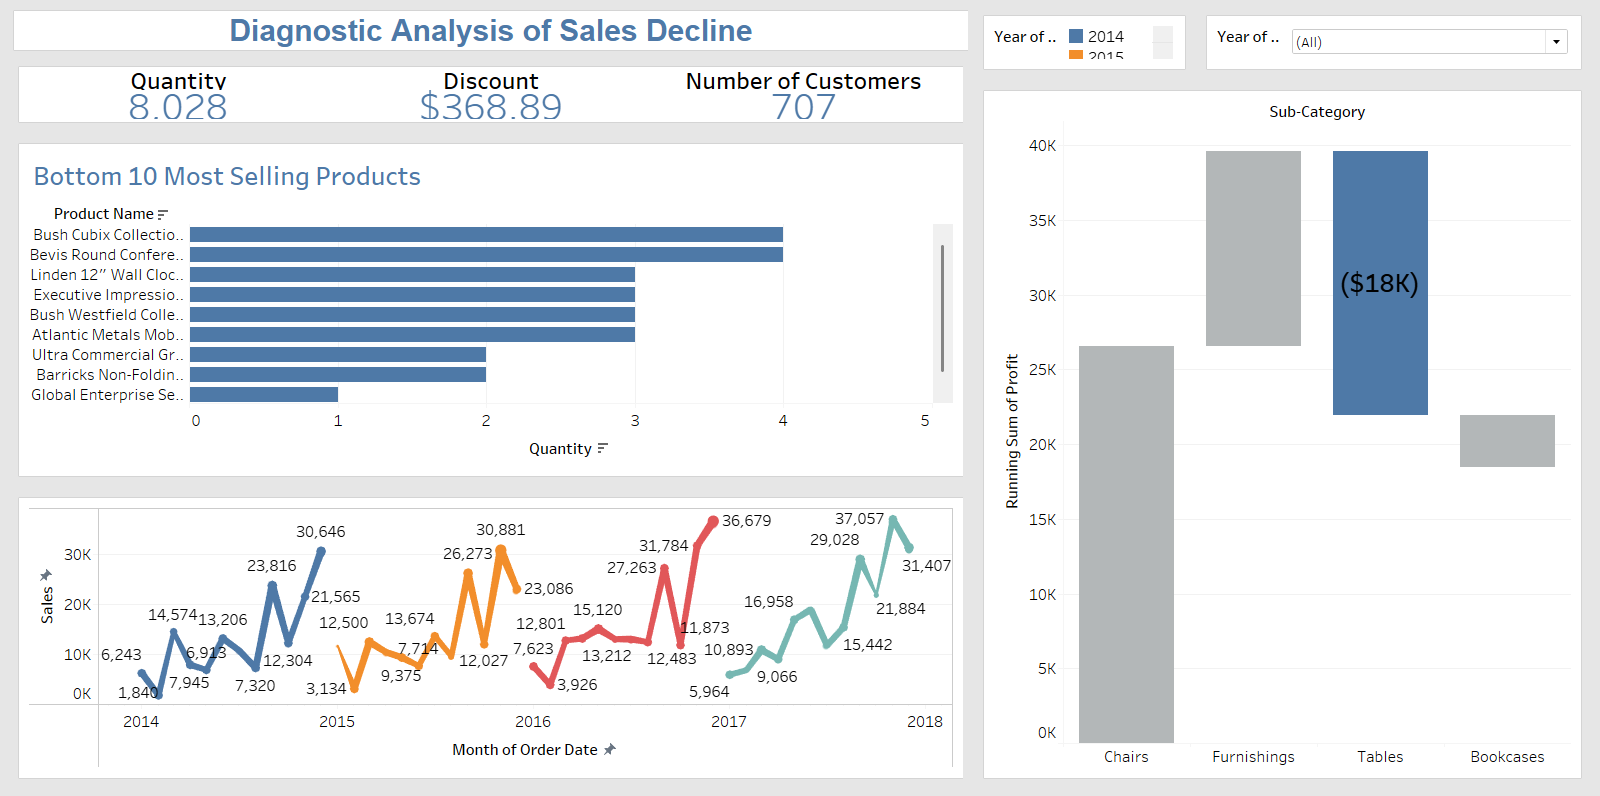

This screenshot's page, from the dashboard's own definition file:
{"tool":"tableau","page":{"name":"Dashboard 2","canvas":[1600,800],"ordinal":1},"visuals":[{"type":"text","box":[7.7,8,965.6,50.9]},{"type":"legend","title":"Monthly Sales","param":"[federated.1485krj05bsb4a159sfjj05vxpbe].[yr:Order Date:ok]","box":[973.3,8,222.8,74.9]},{"type":"filter","title":"Monthly Sales","param":"[federated.1485krj05bsb4a159sfjj05vxpbe].[yr:Order Date:ok]","box":[1196.1,8,396.1,74.9]},{"type":"worksheet","title":"Kpi (2)","mark":"Automatic","box":[7.7,58.9,965.6,76.9]},{"type":"worksheet","title":"Waterfall chart","mark":"GanttBar","cols":["Sub-Category"],"box":[973.3,82.9,618.9,709.1]},{"type":"worksheet","title":"product Quantity Bar","mark":"Automatic","rows":["Product Name"],"cols":["Quantity"],"box":[7.7,135.8,965.6,354.1]},{"type":"worksheet","title":"Monthly Sales","mark":"Automatic","rows":["Sales","Sales"],"cols":["Order Date"],"box":[7.7,489.9,965.6,302.1]}]}

Visuals, with their boxes in screenshot pixels (x1, y1, x2, y2), scaled from the page's 1600x800 canvas onto the 1600x796 screenshot:
text: box=[8, 8, 973, 59]
"Monthly Sales" legend: box=[973, 8, 1196, 82]
"Monthly Sales" filter: box=[1196, 8, 1592, 82]
"Kpi (2)" worksheet: box=[8, 59, 973, 135]
"Waterfall chart" worksheet (GanttBar marks): box=[973, 82, 1592, 788]
"product Quantity Bar" worksheet: box=[8, 135, 973, 487]
"Monthly Sales" worksheet: box=[8, 487, 973, 788]
